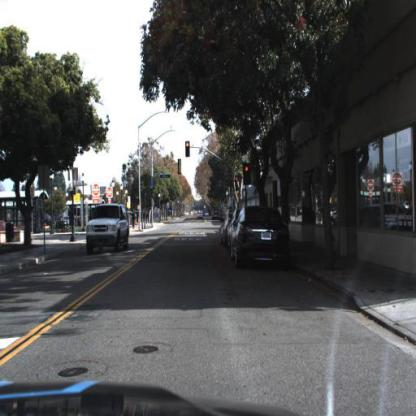car: (228, 204, 296, 269), (82, 199, 135, 259)
trafficLight-Red: (242, 160, 251, 189), (242, 159, 250, 186), (184, 138, 191, 162)
